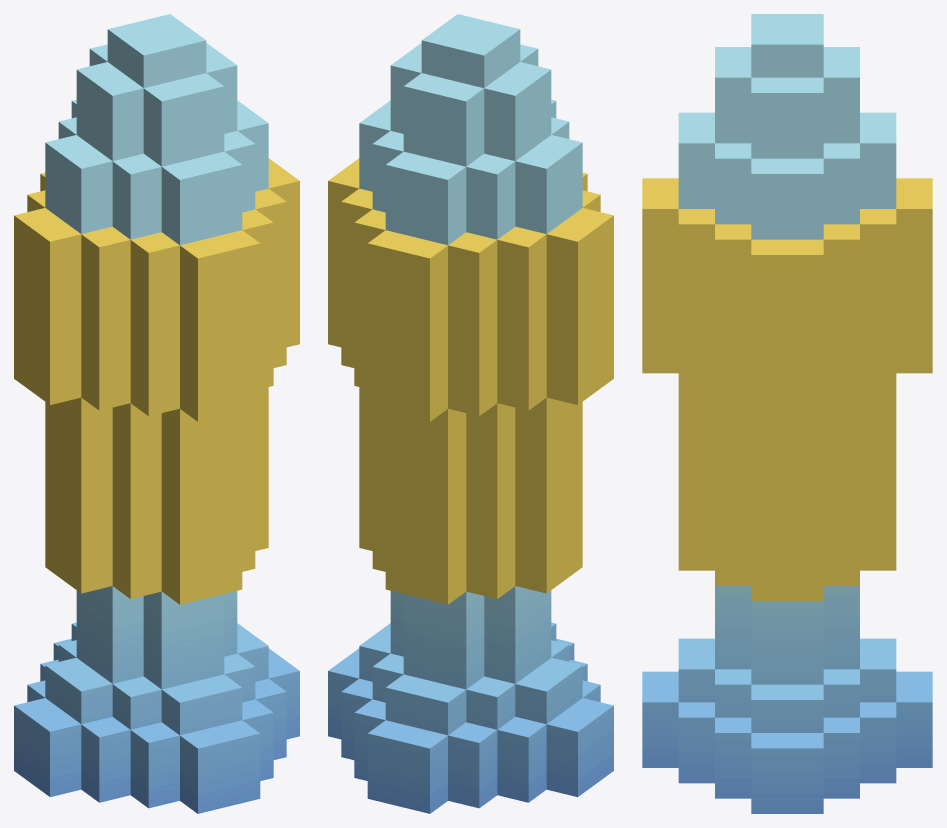
File: bomb.glb
3 renders of one model, left to right at view 1: azimuth 30°, elevation 25°; view 2: azimuth 150°, elevation 25°; view 3: azimuth 270°, elevation 25°, orthographic.
Visible parts, largest first — view 1: bomb; view 2: bomb; view 3: bomb.
Boxes of the visible parts, x1=… form: bomb: x1=14, y1=14, x2=299, y2=813; bomb: x1=328, y1=14, x2=613, y2=813; bomb: x1=642, y1=14, x2=932, y2=813.
Bounding box in the file's own units: 2.67 × 7.33 × 2.67.
1 material, 1 textured.
